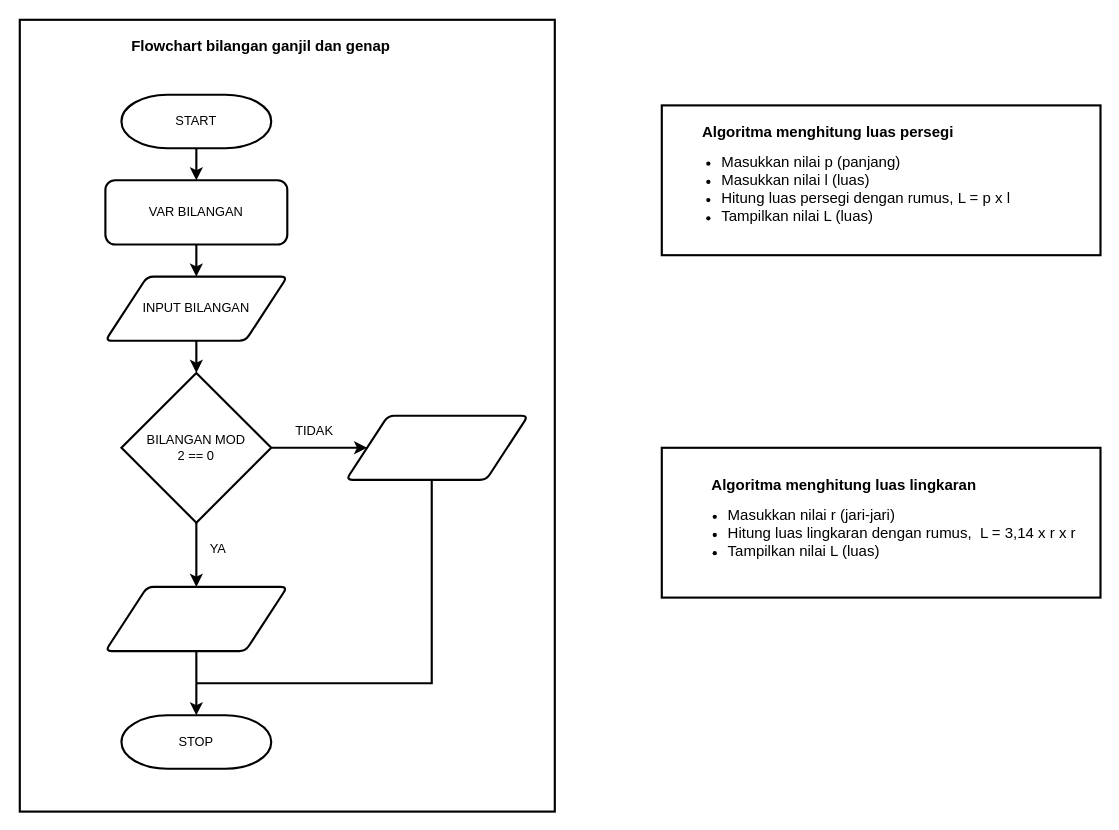
The diagram is 1119 pixels wide and 830 high, and some of its shapes have lost their labels. Here are the shapes that lost their labels. From the top down, the centre of each, then its label:
(x=437, y=447): BILANGAN GANJIL
(x=196, y=618): BILANGAN GENAP
